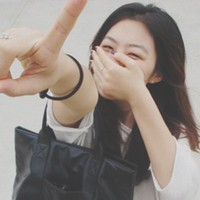face: (93, 21, 154, 99)
